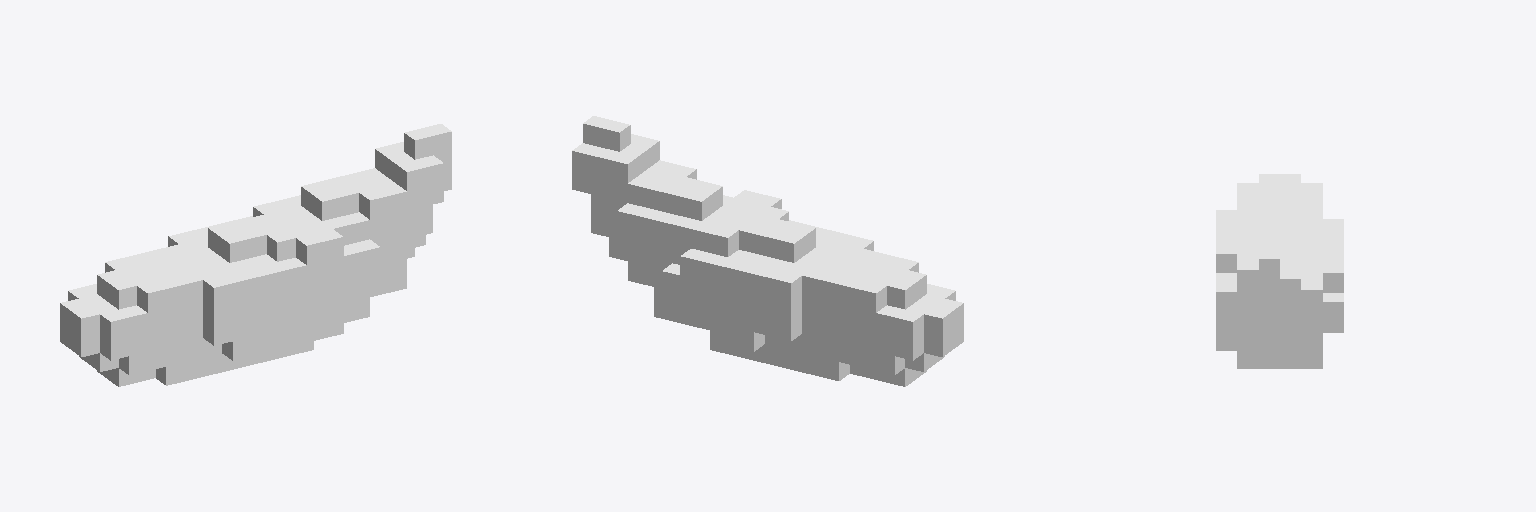
File: bananaa.vox-0-banana.obj
3 renders of one model, left to right at view 1: azimuth 30°, elevation 25°; view 2: azimuth 150°, elevation 25°; view 3: azimuth 270°, elevation 25°, orthographic.
Visible parts, largest first — view 1: banana; view 2: banana; view 3: banana.
Part boxes in pixels (x1,y1,x2,y2): banana: (60, 124, 451, 386); banana: (572, 116, 963, 386); banana: (1216, 174, 1343, 368).
Bounding box in the file's own units: 2 × 0.9 × 0.6.